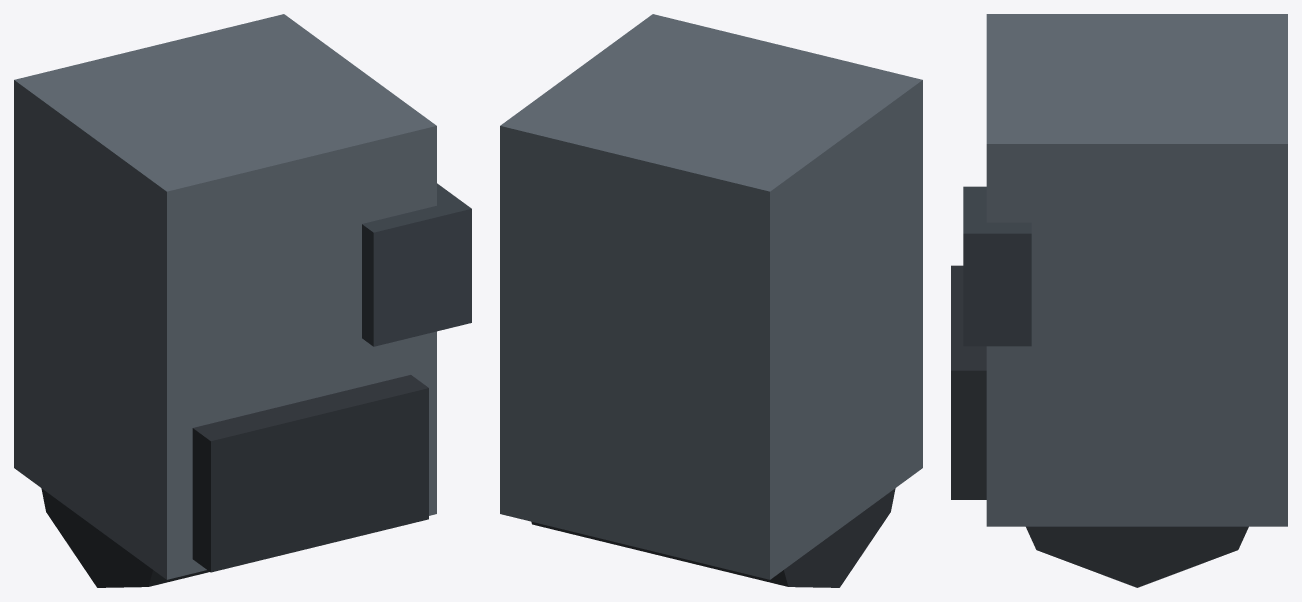
Rendered from pc_assault_upper_leg.fbx.
The picture shows the model from 3 angles, left to right: view 1: azimuth 30°, elevation 25°; view 2: azimuth 150°, elevation 25°; view 3: azimuth 270°, elevation 25°; orthographic projection.
Visible parts, largest first — view 1: pc_assault_upper_leg; view 2: pc_assault_upper_leg; view 3: pc_assault_upper_leg.
Part boxes in pixels (x1,y1,x2,y2): pc_assault_upper_leg: (14, 14, 471, 587); pc_assault_upper_leg: (500, 14, 922, 587); pc_assault_upper_leg: (951, 14, 1287, 587).
Size of the model in its own units: 108 by 159 by 109.
